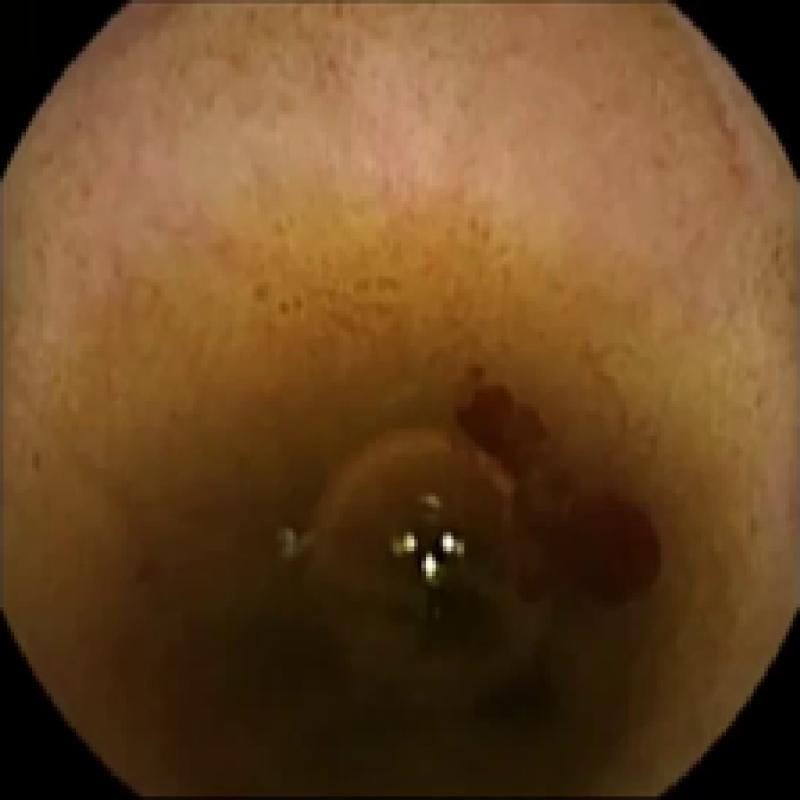bleeding: (526, 496, 664, 613), (457, 361, 539, 481)
